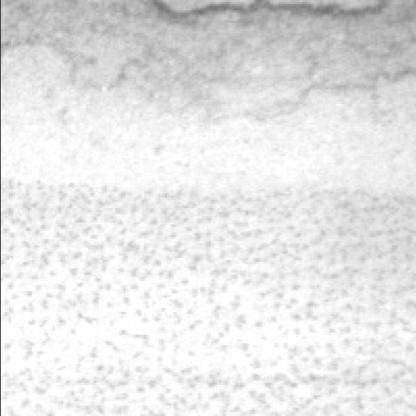pitted_surface: (2, 179, 416, 414), (19, 23, 416, 116)
